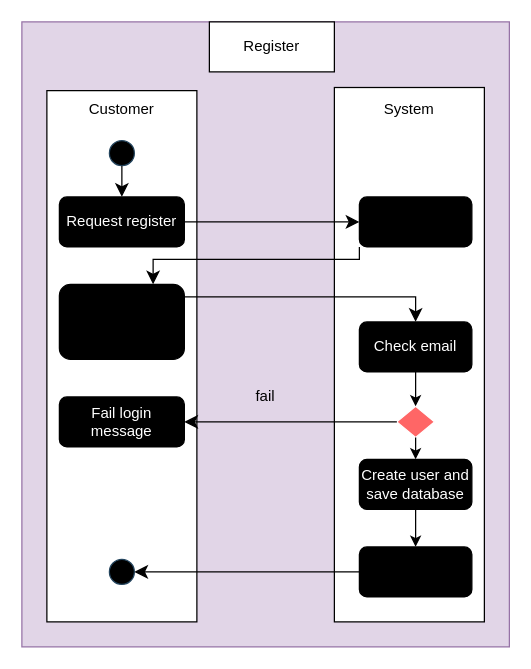
Some shapes in this 531 by 669 pixel diagram are drawn without their labels. The centre of each missing label's shape, as x and y in pixels:
Display register form: point 415,221
Enter email, username, password: point 121,321
Login successfully: point 415,571
